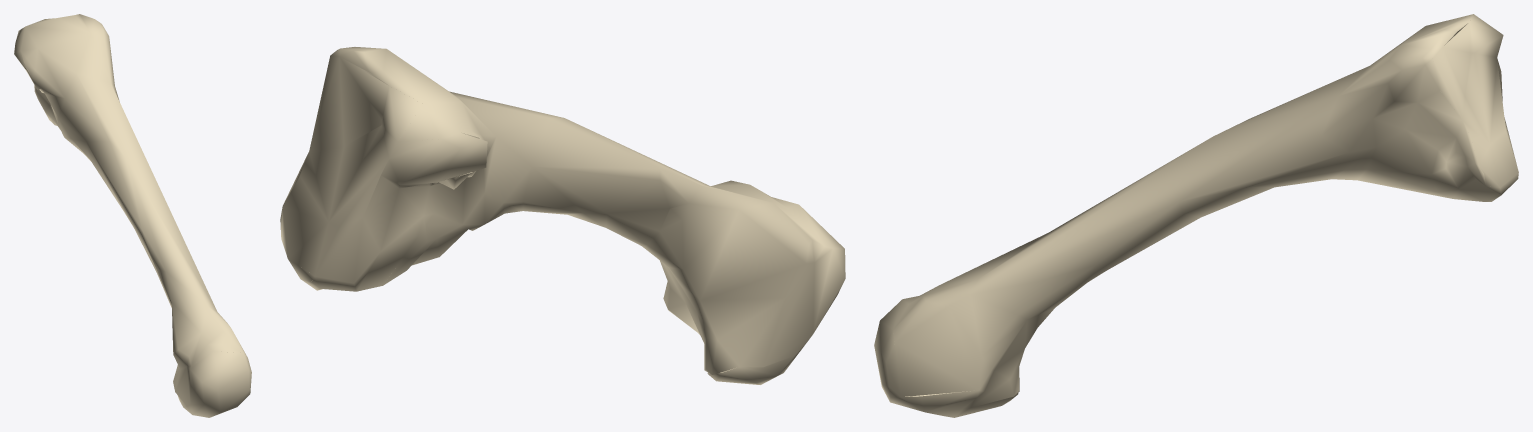
Rendered from esqueleto-second-metatarsal-bone-r.glb.
3 renders of one model, left to right at view 1: azimuth 30°, elevation 25°; view 2: azimuth 150°, elevation 25°; view 3: azimuth 270°, elevation 25°, orthographic. The views are drawn at different scales.
Visible parts, largest first — view 1: Second metatarsal bone.r; view 2: Second metatarsal bone.r; view 3: Second metatarsal bone.r.
Part boxes in pixels (box(x1,y1,x2,y2)): Second metatarsal bone.r: box(14, 14, 251, 417); Second metatarsal bone.r: box(280, 47, 845, 384); Second metatarsal bone.r: box(874, 14, 1518, 417).
Bounding box in the file's own units: 0.0174 × 0.0499 × 0.0705.
